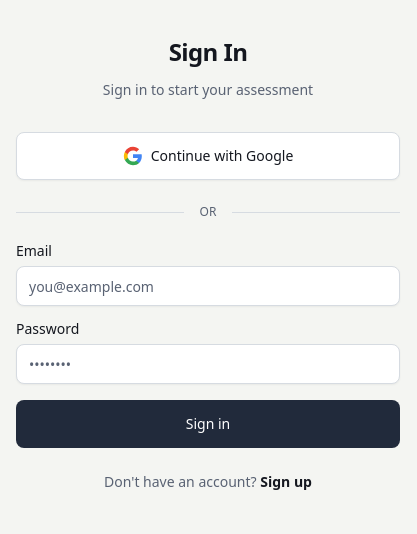
Test: LoginPage › shows error message on invalid credentials
Type "test@example.com" into the field with placeholder "you@example.com" at (208, 286), box [16,266,400,306]
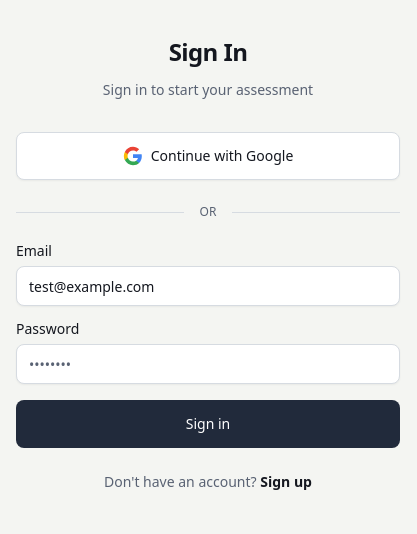
Type "wrongpassword" into the password field with placeholder "••••••••" at (208, 364), box [16,344,400,384]
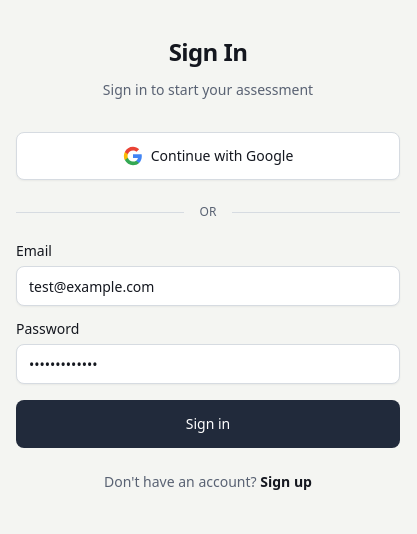
Click the button "Sign in" at (208, 424), box [16,400,400,448]
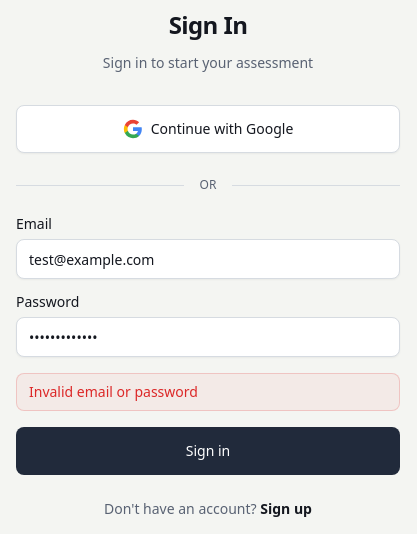
Result: the text "Invalid email or password" is shown at [16,373,400,411]
